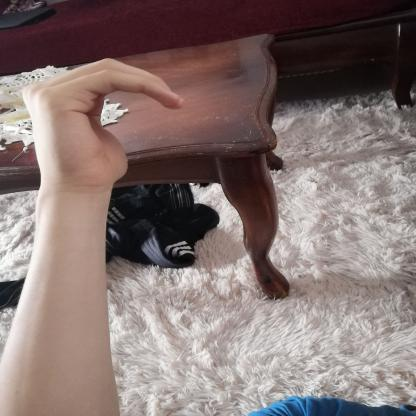HAA: (8, 51, 205, 198)
